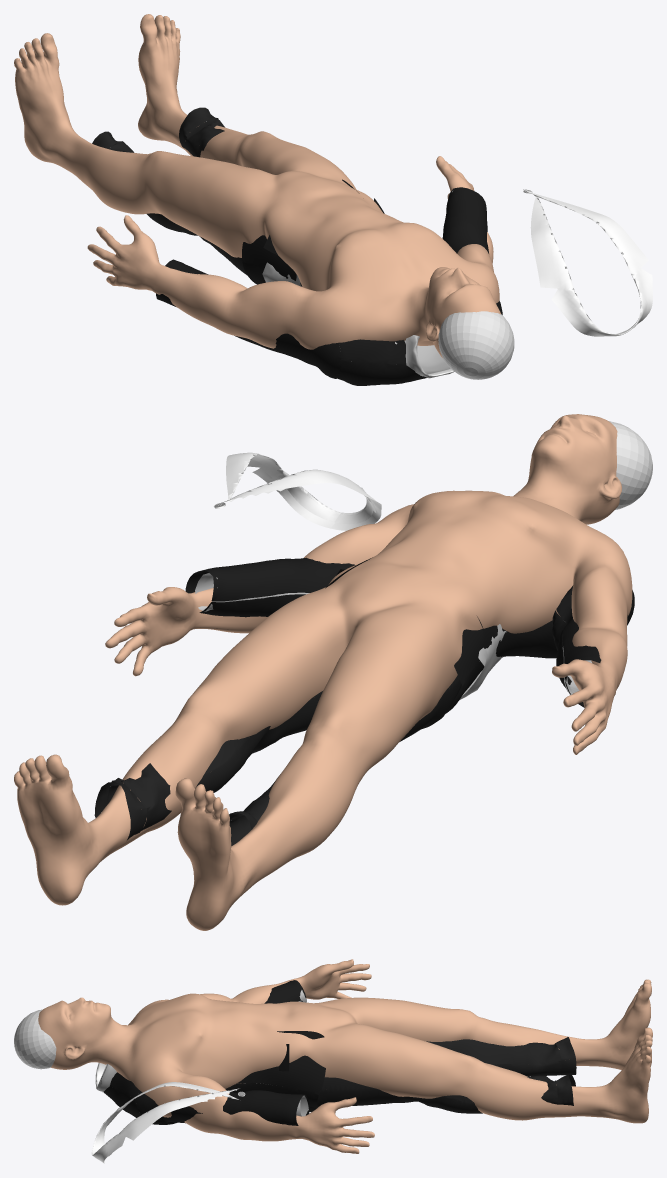
Rendered from modelo80.0.glb.
3 views of the same model, one above another, from view 1: azimuth 30°, elevation 25°; view 2: azimuth 150°, elevation 25°; view 3: azimuth 270°, elevation 25° (orthographic). The views are drawn at different scales.
Parts seen in each view (by area): view 1: modelo, suit, suit collar, Sphere, pant, shirt; view 2: modelo, suit, pant, suit collar, Sphere, shirt; view 3: modelo, suit, pant, suit collar, Sphere, shirt.
Part boxes in pixels (x1,y1,x2,y2): modelo: (14,14,500,357); suit: (156,179,502,385); suit collar: (523,189,652,336); Sphere: (438,311,514,379); pant: (92,107,247,275); shirt: (262,191,454,378); modelo: (14,414,632,930); suit: (185,557,634,716); pant: (94,675,461,845); suit collar: (213,452,381,530); Sphere: (608,421,652,509); shirt: (195,573,591,700); modelo: (38,959,652,1153); suit: (103,980,325,1125); pant: (309,1037,576,1113); suit collar: (91,1082,245,1163); Sphere: (14,1009,56,1069); shirt: (95,990,308,1116).
Size of the model in its own units: 75.2 by 23.81 by 126.
